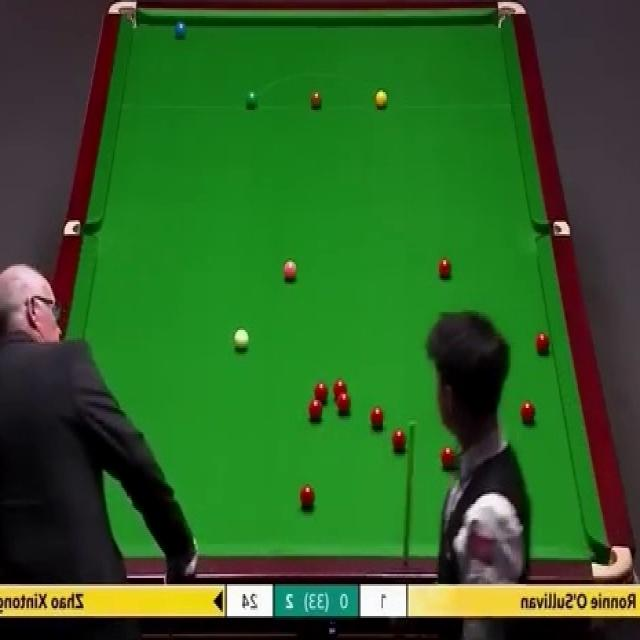blue-ball: (172, 18, 188, 43)
brown-ball: (309, 91, 323, 111)
green-ball: (244, 90, 258, 112)
pink-ball: (282, 258, 298, 284)
red-ball: (520, 397, 538, 427), (390, 429, 408, 456), (299, 485, 315, 512), (441, 444, 456, 472), (368, 408, 384, 432), (336, 393, 352, 416), (438, 255, 453, 279), (536, 331, 551, 355), (332, 379, 349, 400), (308, 398, 323, 420), (313, 382, 329, 402)
white-ball: (231, 325, 252, 353)
yellow-ball: (374, 90, 388, 110)
